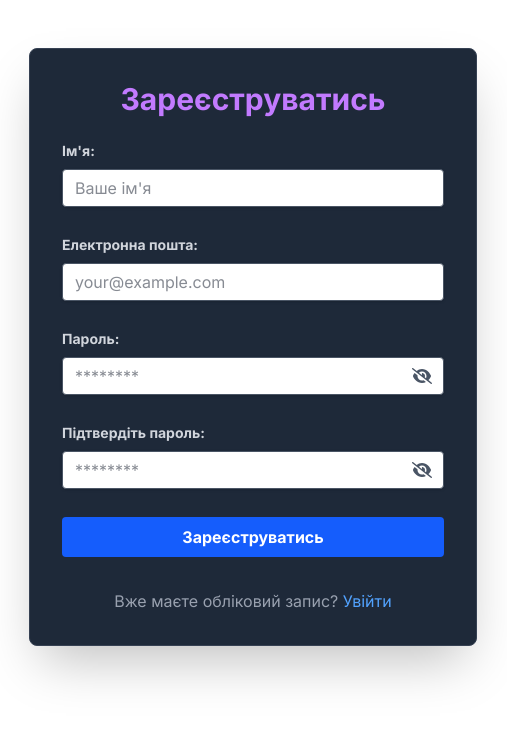
RegisterPage › показує помилку, якщо паролі не співпадають
Type "Test User" into the field labelled "Ім'я:" at (253, 188), box [62,169,444,207]
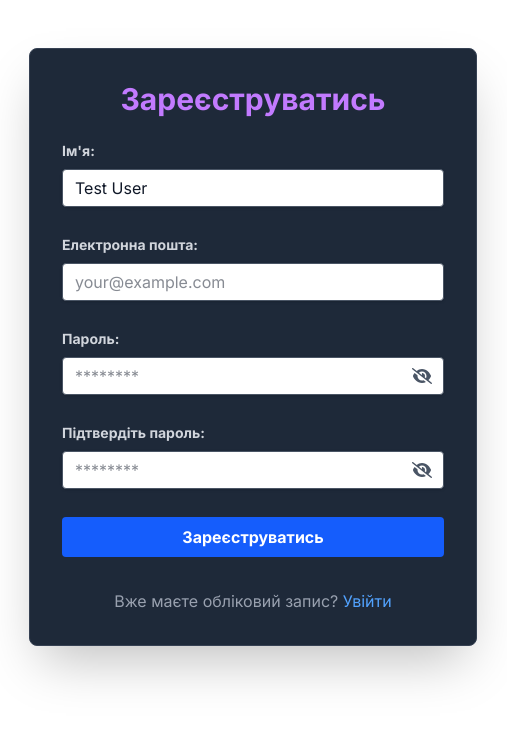
Type "test@example.com" into the field labelled "Електронна пошта:" at (253, 282), box [62,263,444,301]
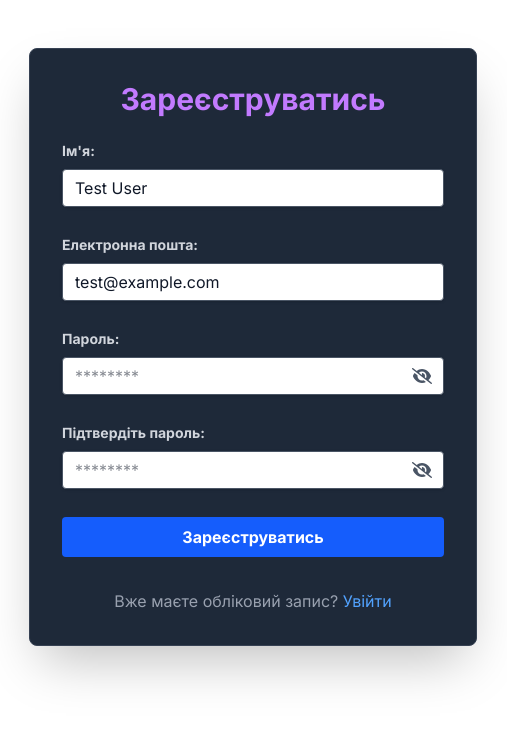
Type "12345678" into the password field labelled "Пароль:" at (253, 376), box [62,357,444,395]
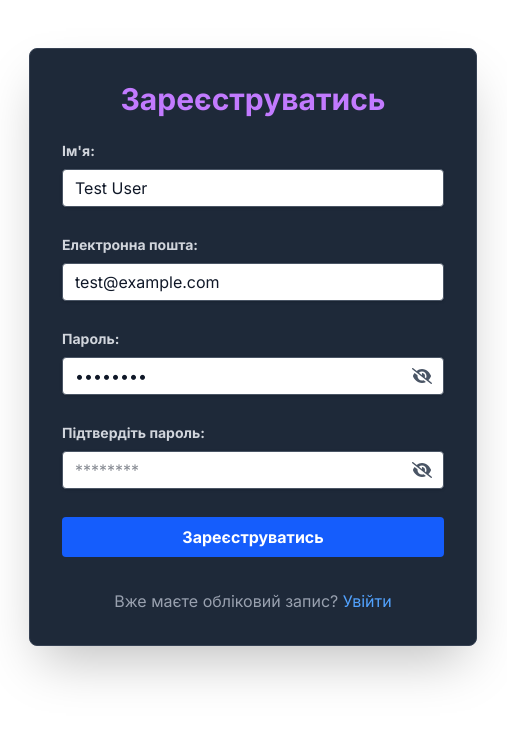
Type "87654321" into the password field labelled "Підтвердіть пароль:" at (253, 470), box [62,451,444,489]
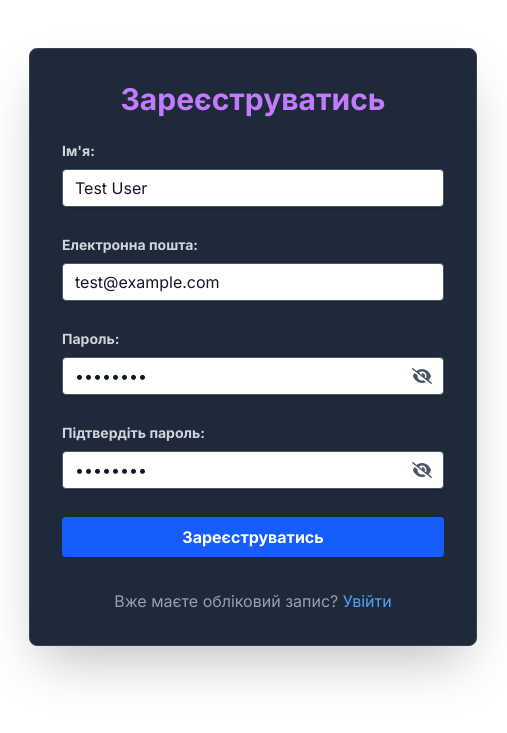
Click the button "Зареєструватись" at (253, 537), box [62,517,444,557]
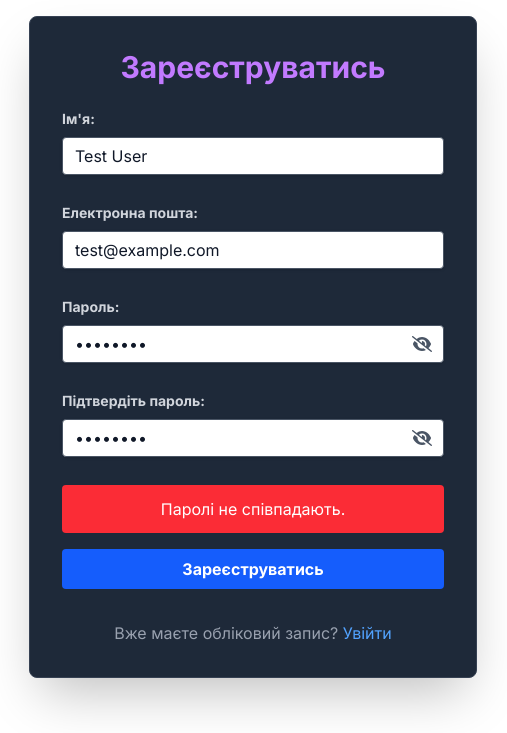
Result: the message with test id "error-message" reads "Паролі не співпадають." at [161,499,345,519]
